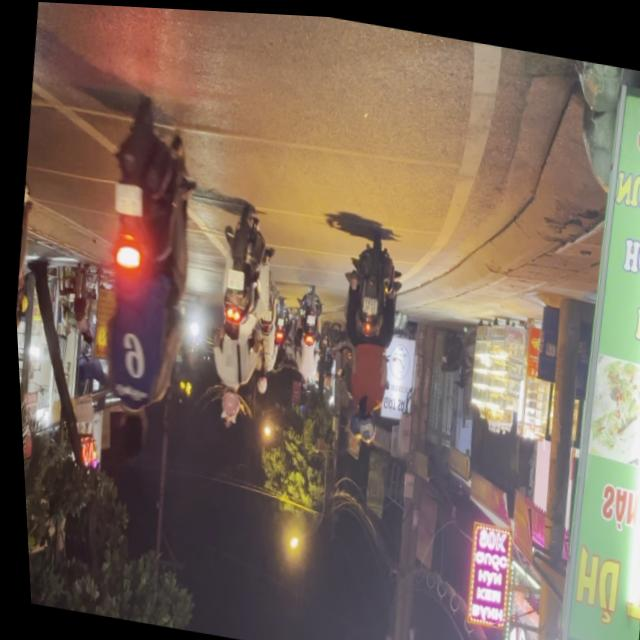helmet: (210, 383, 237, 427), (349, 404, 373, 440)
licenseplate: (66, 89, 217, 477), (191, 192, 283, 432), (318, 227, 410, 444), (6, 143, 45, 393)
motorcyclist: (102, 398, 146, 465)
nohelmet: (109, 180, 141, 214), (221, 265, 242, 287), (358, 291, 375, 310)
